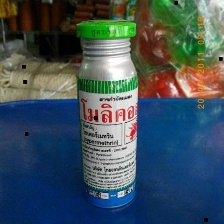insecticide: (71, 14, 141, 213)
